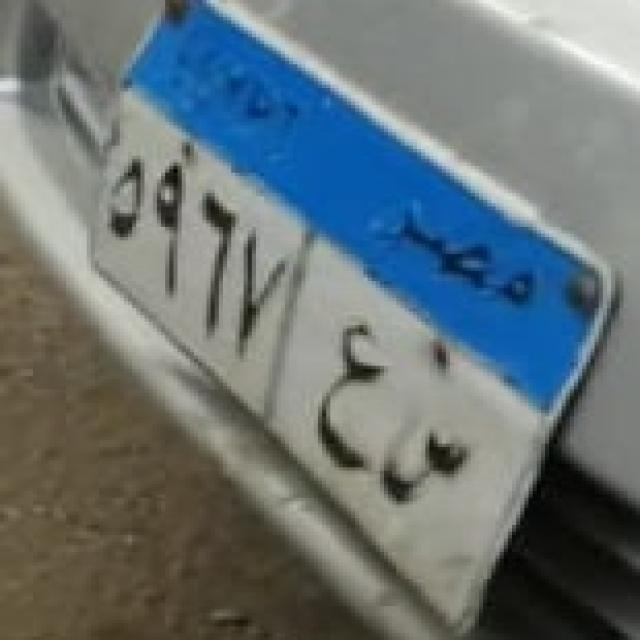5: (98, 152, 153, 245)
6: (190, 187, 244, 342)
7: (226, 227, 292, 369)
9: (142, 151, 200, 309)
Een: (301, 310, 401, 483)
Seen: (375, 409, 491, 512)
